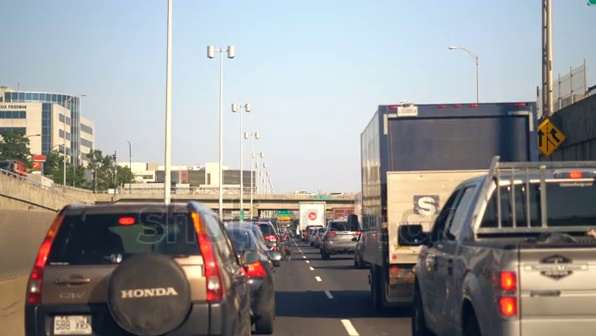licenseplate: (52, 311, 88, 336)
